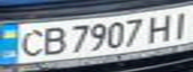0: (106, 18, 127, 50)
7: (121, 16, 151, 47), (66, 21, 90, 54)
9: (87, 20, 112, 52)
B: (36, 24, 69, 57)
C: (12, 26, 48, 59)
H: (145, 11, 178, 43)
I: (166, 7, 193, 39)
